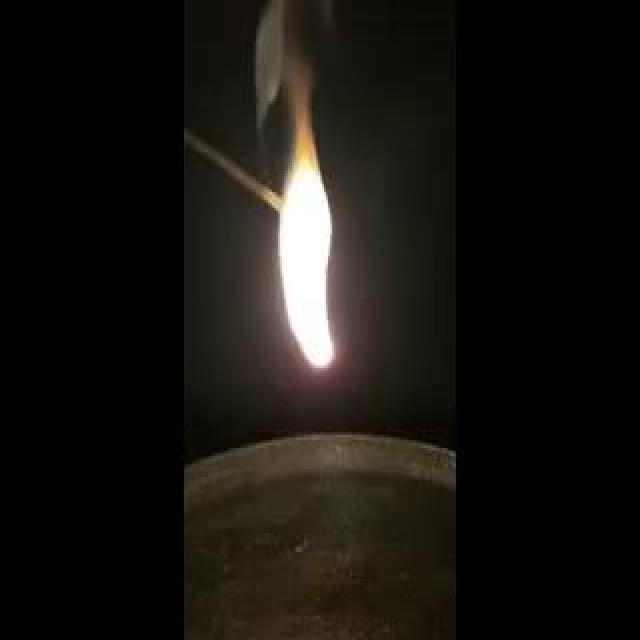Fire: (78, 222, 304, 306)
